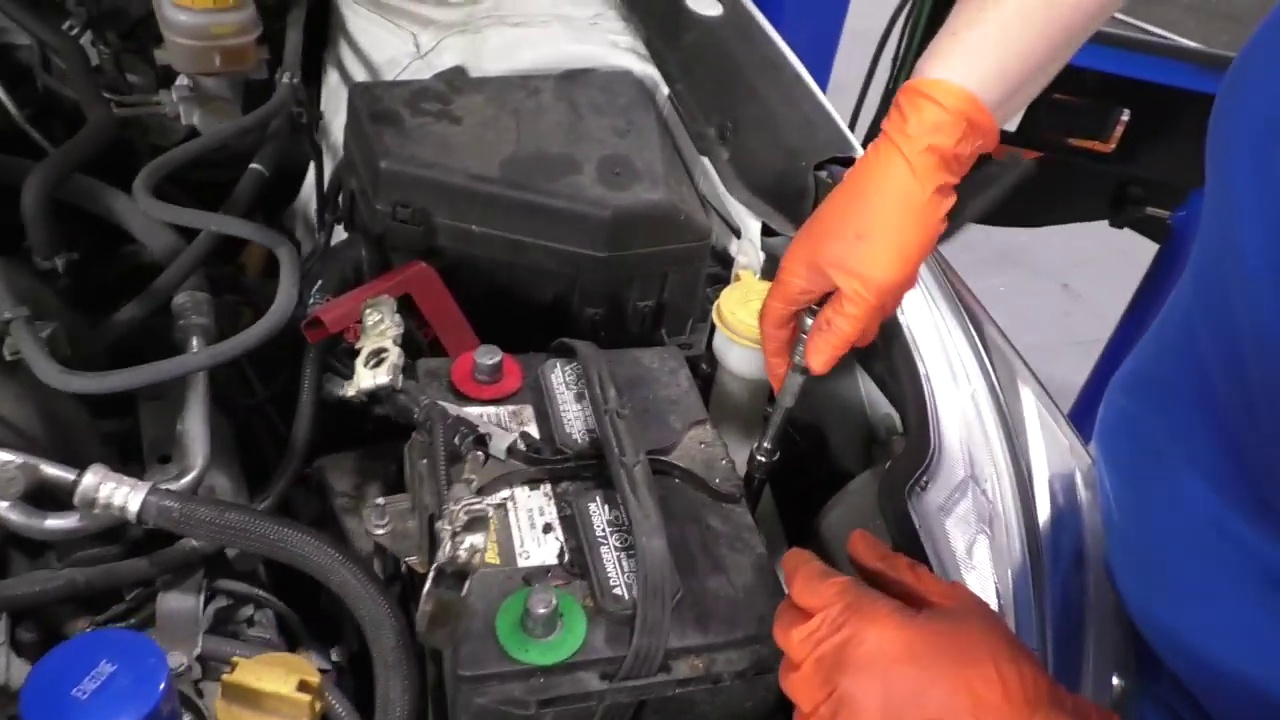battery: (413, 333, 767, 674)
neg_disconnected: (496, 568, 603, 684)
pos_disconnected: (331, 276, 527, 428)
